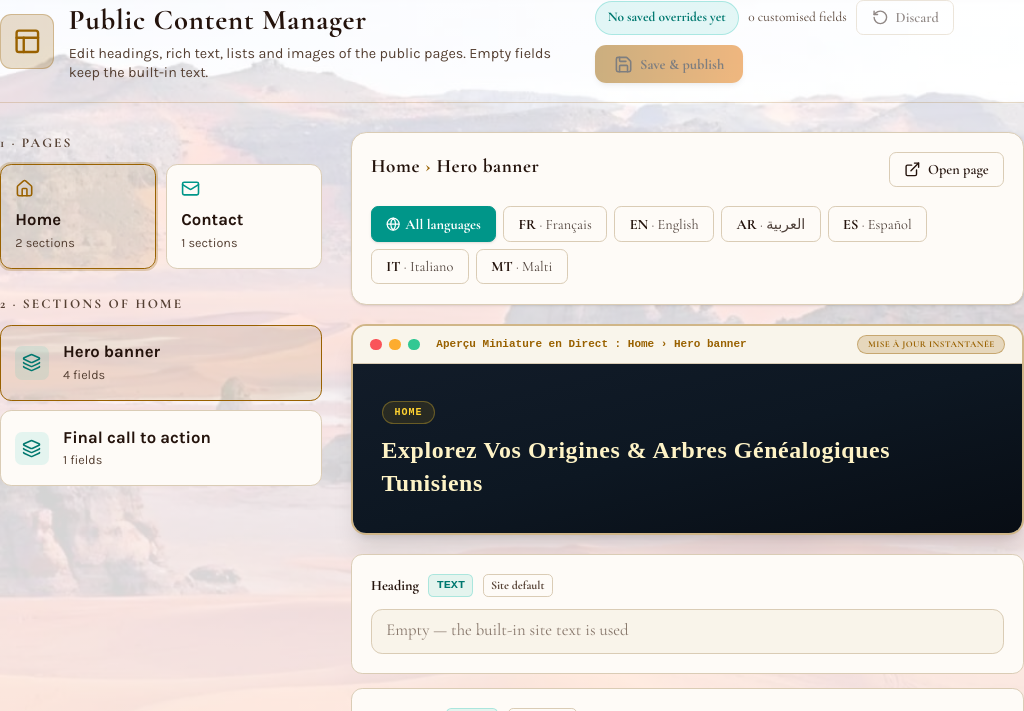
Test: ContentManager › loads from the API, edits per language, uploads an image and saves via PUT (no localStorage)
Later steps or results of the test are not shown.
Expected: the heading "Public Content Manager" is shown, [69,3,367,37]
Expected: the button "Save & publish" is disabled, [595,45,743,83]
Type "Roots Tunisia" into the field with placeholder "Empty — the built-in site text is used" at (687, 631), box [371,609,1004,654]
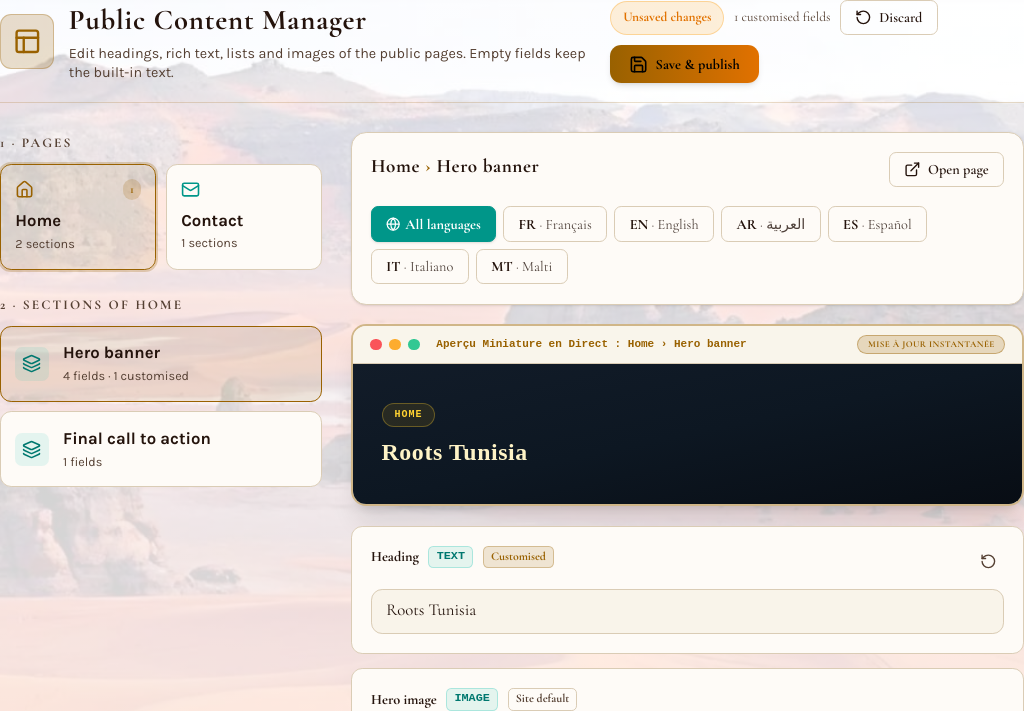
Expected: the button "Save & publish" is enabled, [610,45,759,83]
